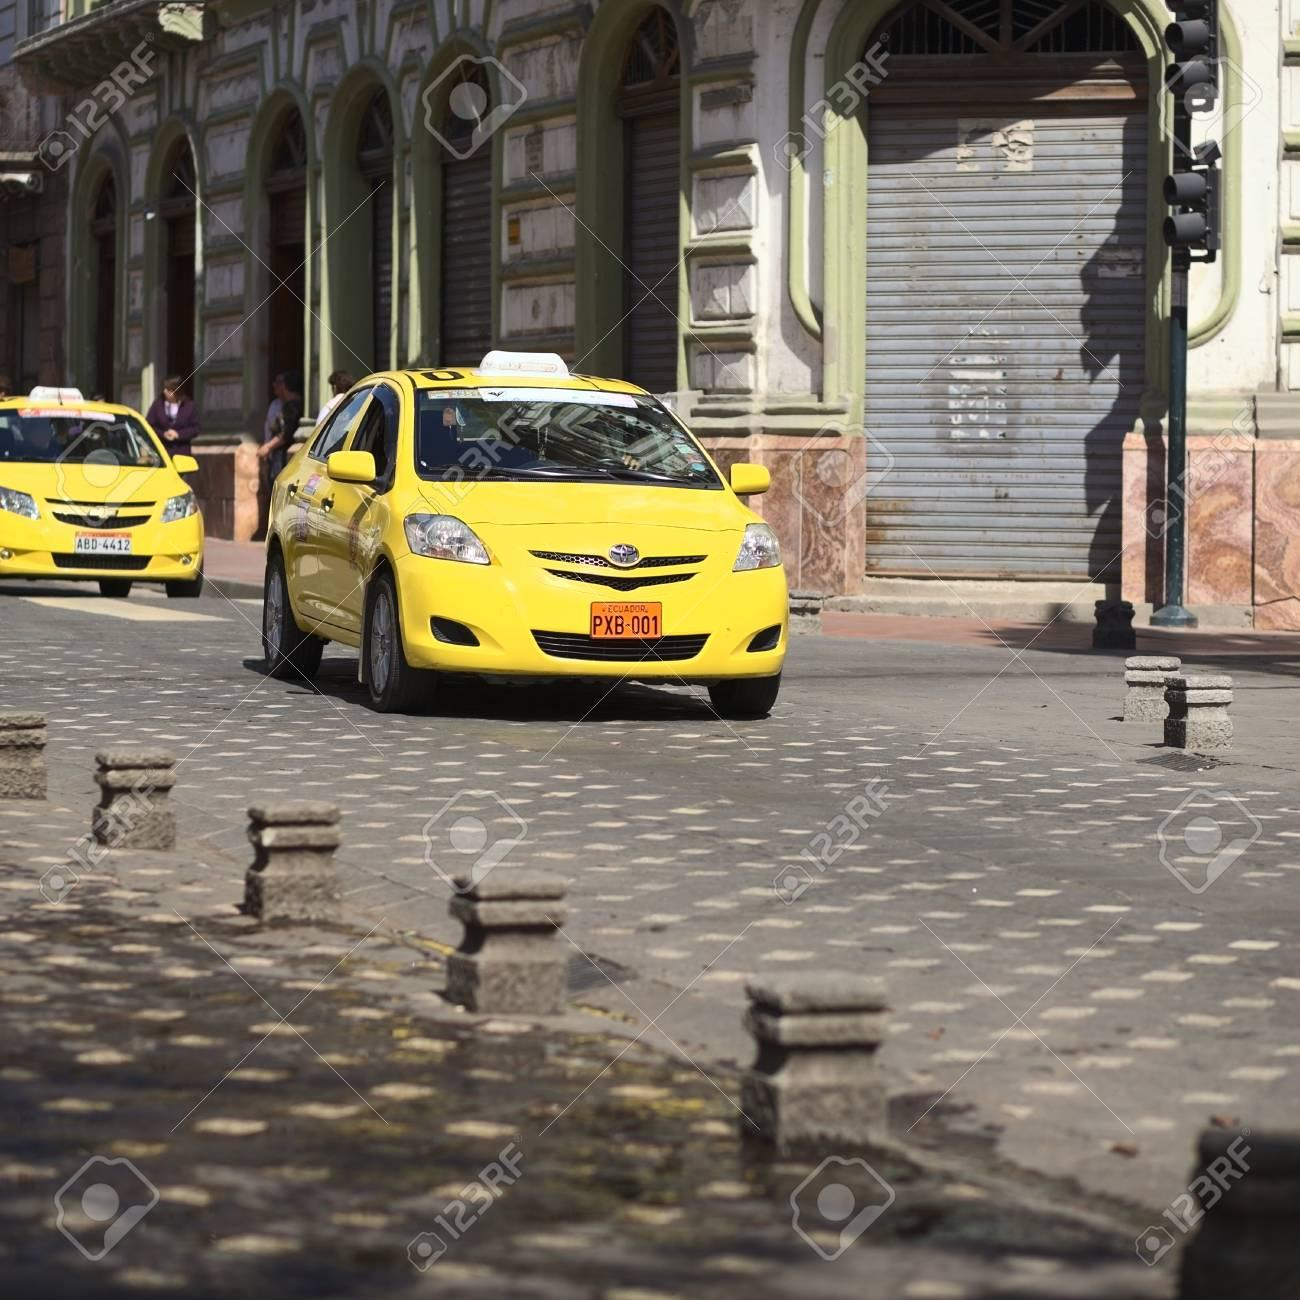taxi: (196, 356, 835, 736)
